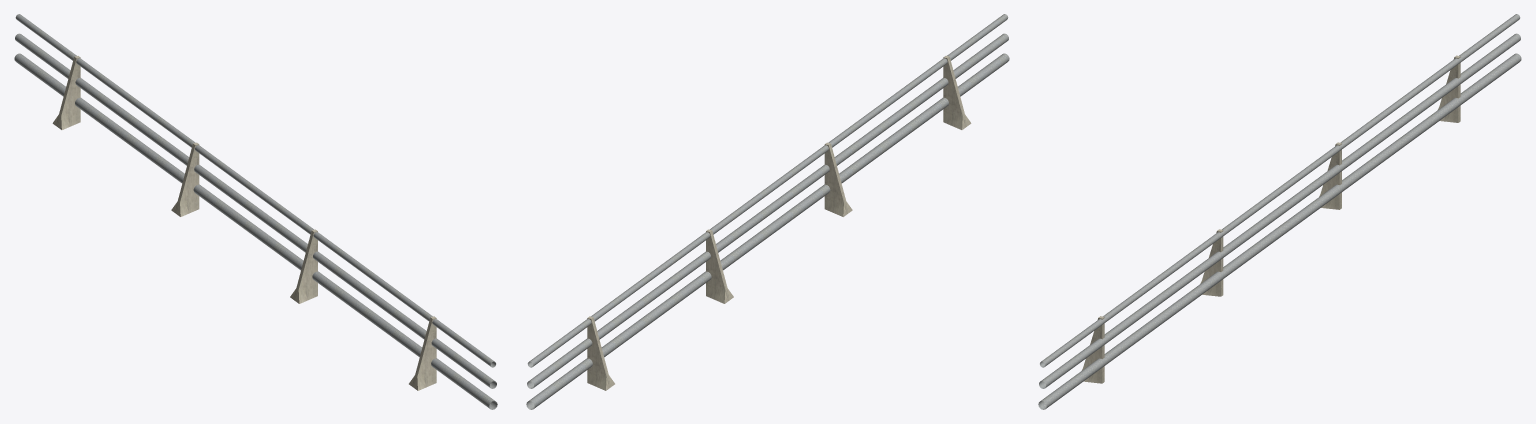
The model's file is GSDRailing4-Light1-20m.FBX.
3 renders of one model, left to right at view 1: azimuth 30°, elevation 25°; view 2: azimuth 150°, elevation 25°; view 3: azimuth 330°, elevation 25°, orthographic.
Parts seen in each view (by area): view 1: GSDRailing4-Light-20m; view 2: GSDRailing4-Light-20m; view 3: GSDRailing4-Light-20m.
Boxes of the visible parts, bbox=[...] form: GSDRailing4-Light-20m: bbox=[14, 14, 497, 409]; GSDRailing4-Light-20m: bbox=[526, 14, 1009, 409]; GSDRailing4-Light-20m: bbox=[1038, 14, 1521, 409].
Bounding box in the file's own units: 0.6061 × 1.51 × 20.
